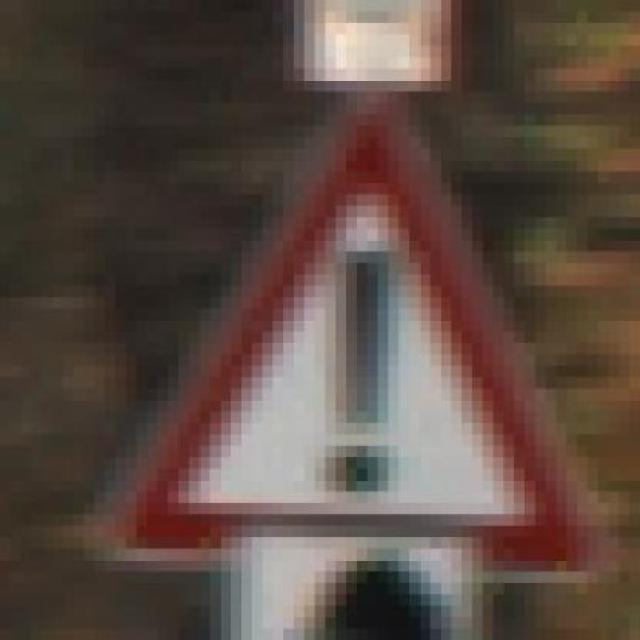Attention Please-: (73, 103, 598, 583)
